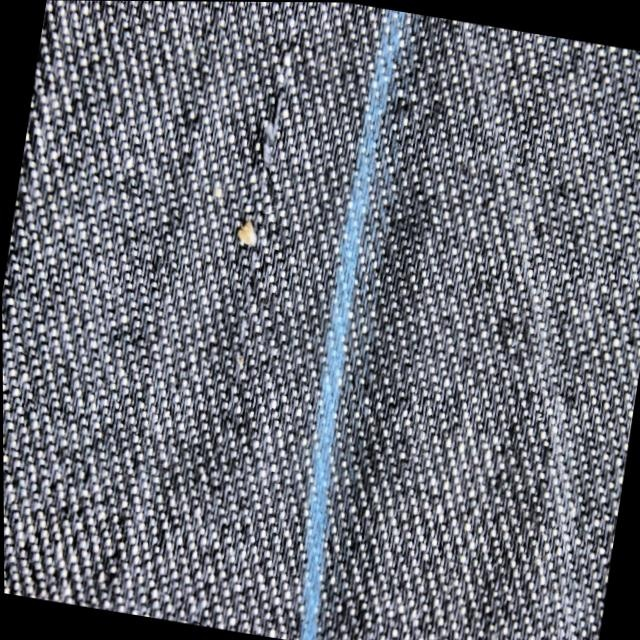Hole: (224, 105, 293, 288), (230, 119, 286, 273)
